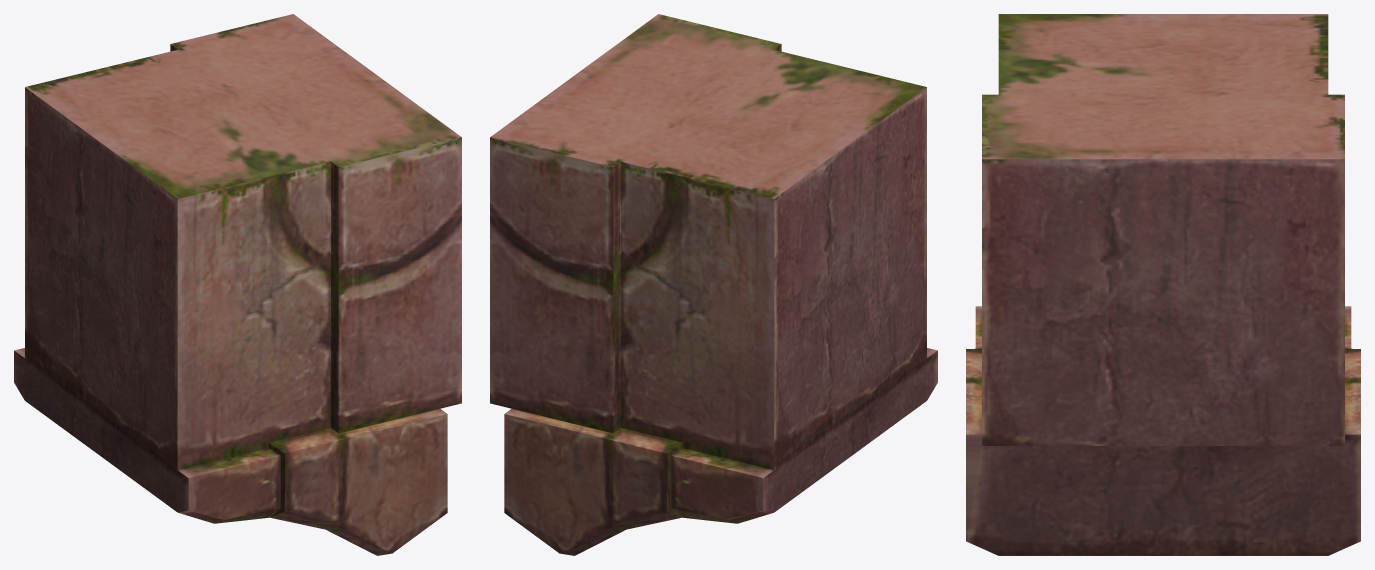
The model's file is yw_huanghunhupan_shiqiang06.FBX.
The picture shows the model from 3 angles, left to right: view 1: azimuth 30°, elevation 25°; view 2: azimuth 150°, elevation 25°; view 3: azimuth 270°, elevation 25°; orthographic projection. The views are drawn at different scales.
Visible parts, largest first — view 1: yw_huanghunhupan_shiqiang06; view 2: yw_huanghunhupan_shiqiang06; view 3: yw_huanghunhupan_shiqiang06.
Boxes of the visible parts, x1,y1,x2,y2 form: yw_huanghunhupan_shiqiang06: (14,14,461,555); yw_huanghunhupan_shiqiang06: (490,14,937,555); yw_huanghunhupan_shiqiang06: (966,14,1360,555).
Size of the model in its own units: 187 by 262 by 214.
